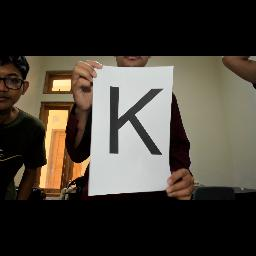k: (98, 78, 168, 172)
